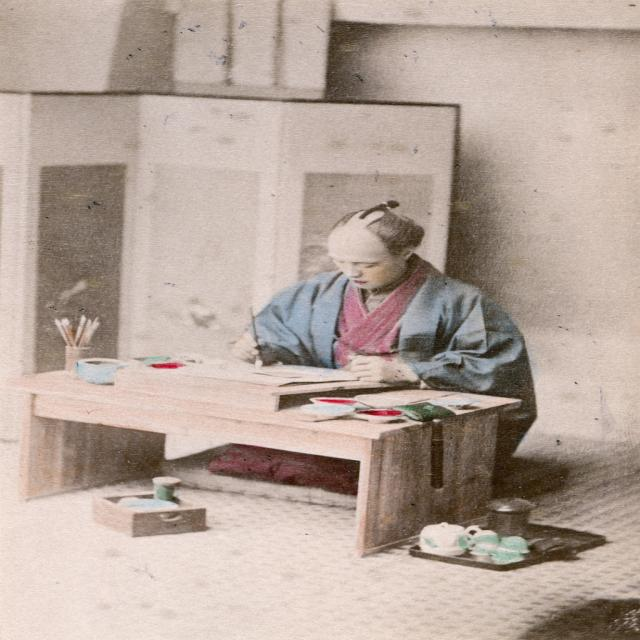desk: (5, 321, 561, 577)
person: (244, 200, 530, 410)
